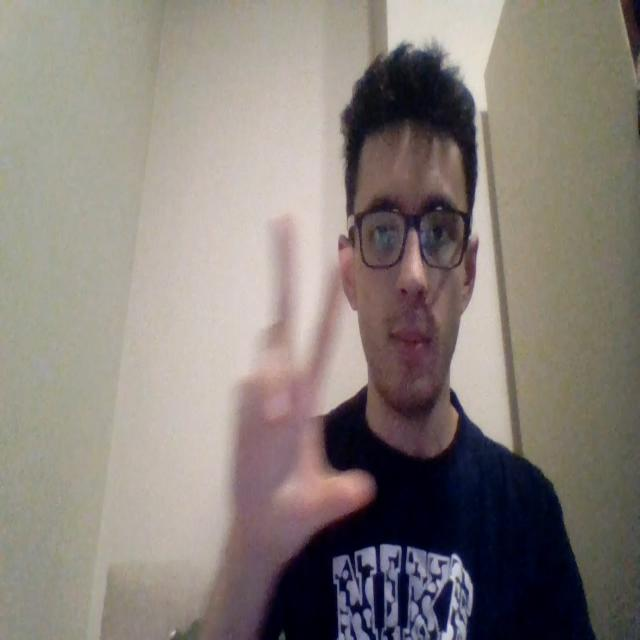no: (229, 205, 378, 574)
